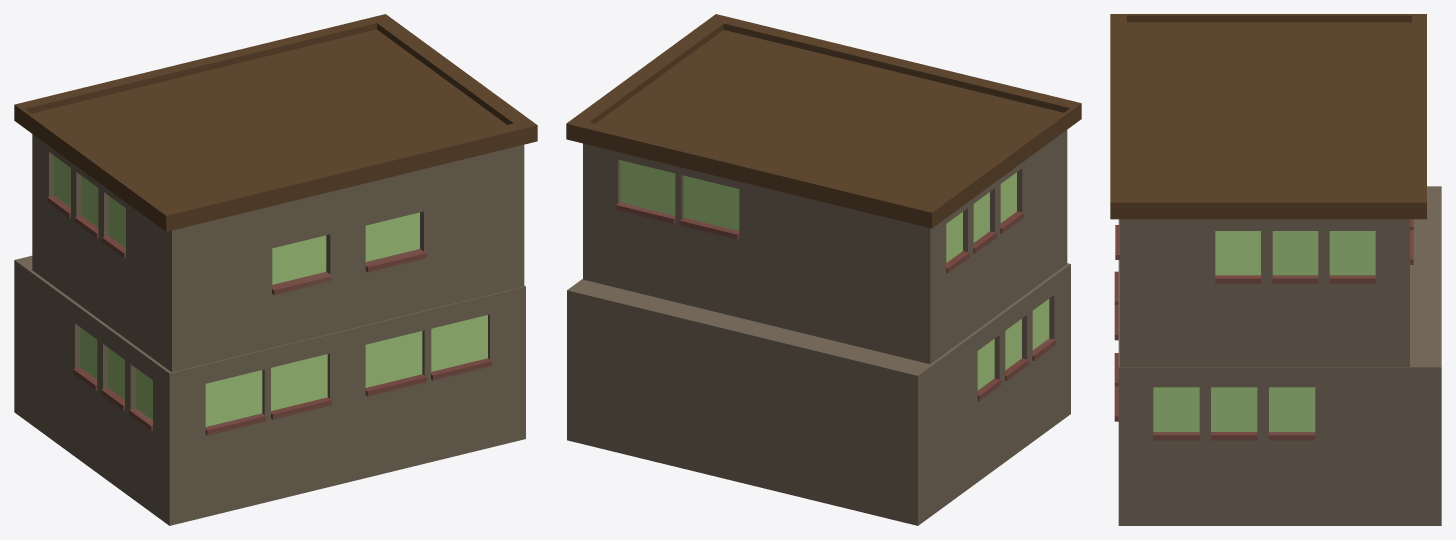
Rendered from West_House_02.fbx.
The picture shows the model from 3 angles, left to right: view 1: azimuth 30°, elevation 25°; view 2: azimuth 150°, elevation 25°; view 3: azimuth 270°, elevation 25°; orthographic projection. The views are drawn at different scales.
Visible parts, largest first — view 1: West_House_02; view 2: West_House_02; view 3: West_House_02.
Part boxes in pixels (x1,y1,x2,y2): West_House_02: (14, 14, 537, 525); West_House_02: (566, 14, 1081, 525); West_House_02: (1110, 14, 1441, 525).
Size of the model in its own units: 28.56 by 23.12 by 21.19.
1 material, 1 textured.
